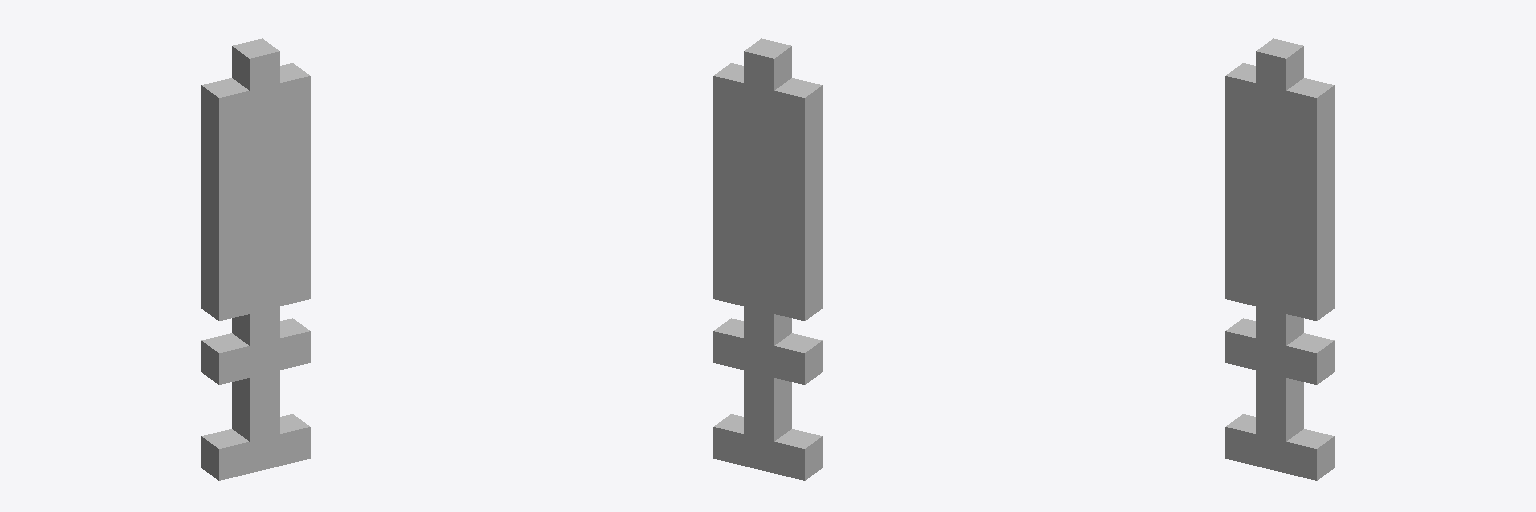
Rendered from sword.obj.
3 renders of one model, left to right at view 1: azimuth 30°, elevation 25°; view 2: azimuth 150°, elevation 25°; view 3: azimuth 330°, elevation 25°, orthographic.
Size of the model in its own units: 3 by 13 by 1.